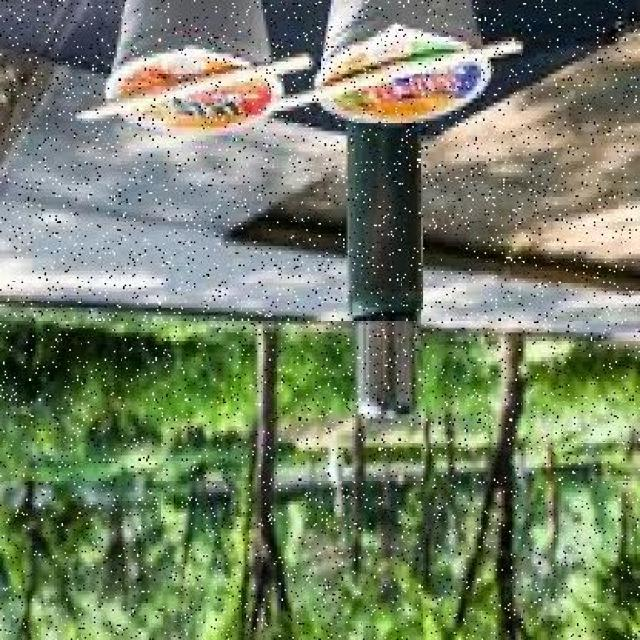Miscellaneous: (100, 0, 294, 140), (309, 0, 502, 128)
